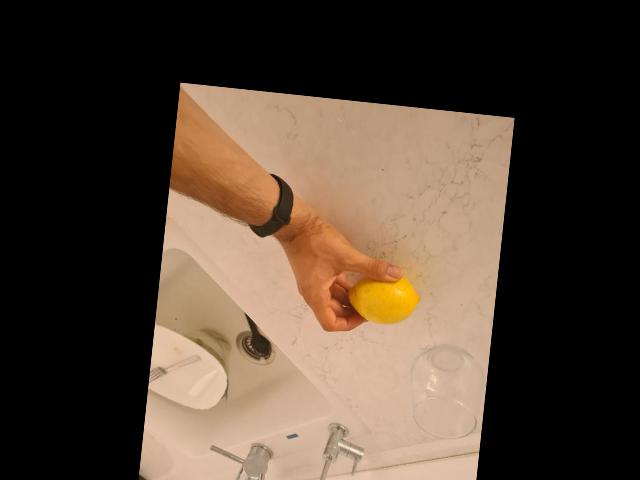lemon: (348, 269, 417, 324)
